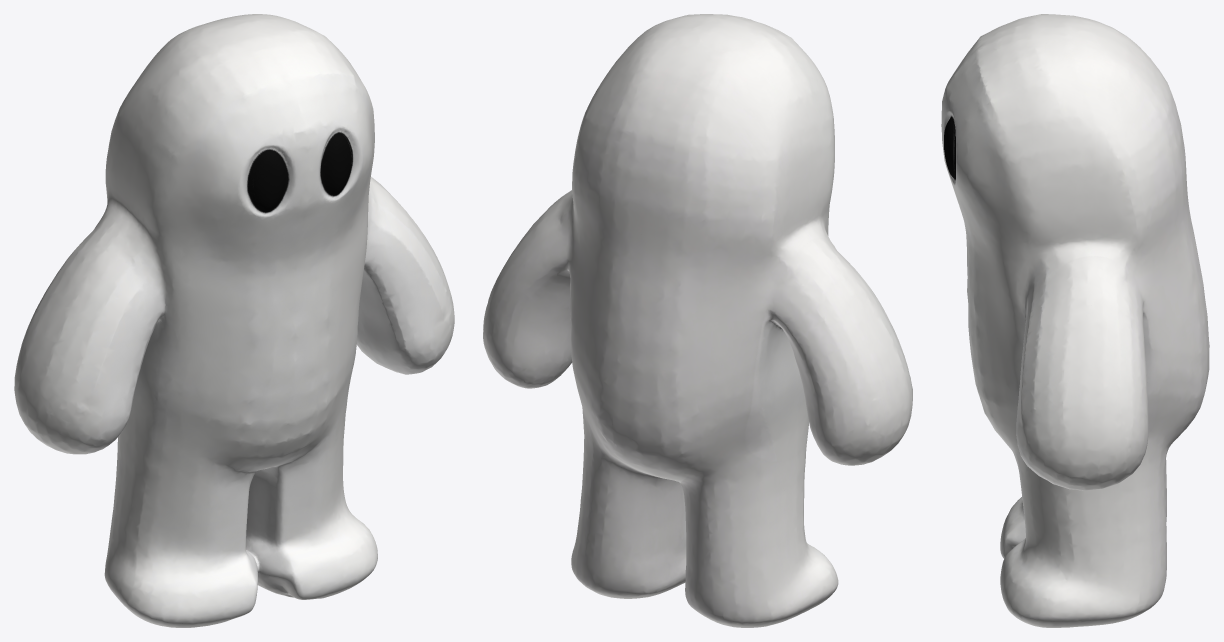
Rendered from Character.glb.
3 renders of one model, left to right at view 1: azimuth 30°, elevation 25°; view 2: azimuth 150°, elevation 25°; view 3: azimuth 270°, elevation 25°, orthographic. The views are drawn at different scales.
Size of the model in its own units: 1.45 by 1.9 by 0.8323.
1 material, 1 textured.
